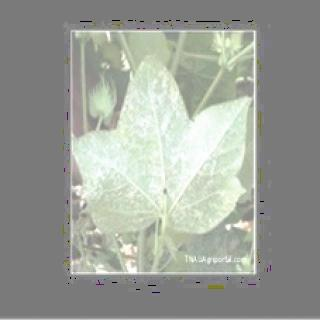grey mildew: (86, 60, 248, 254)
